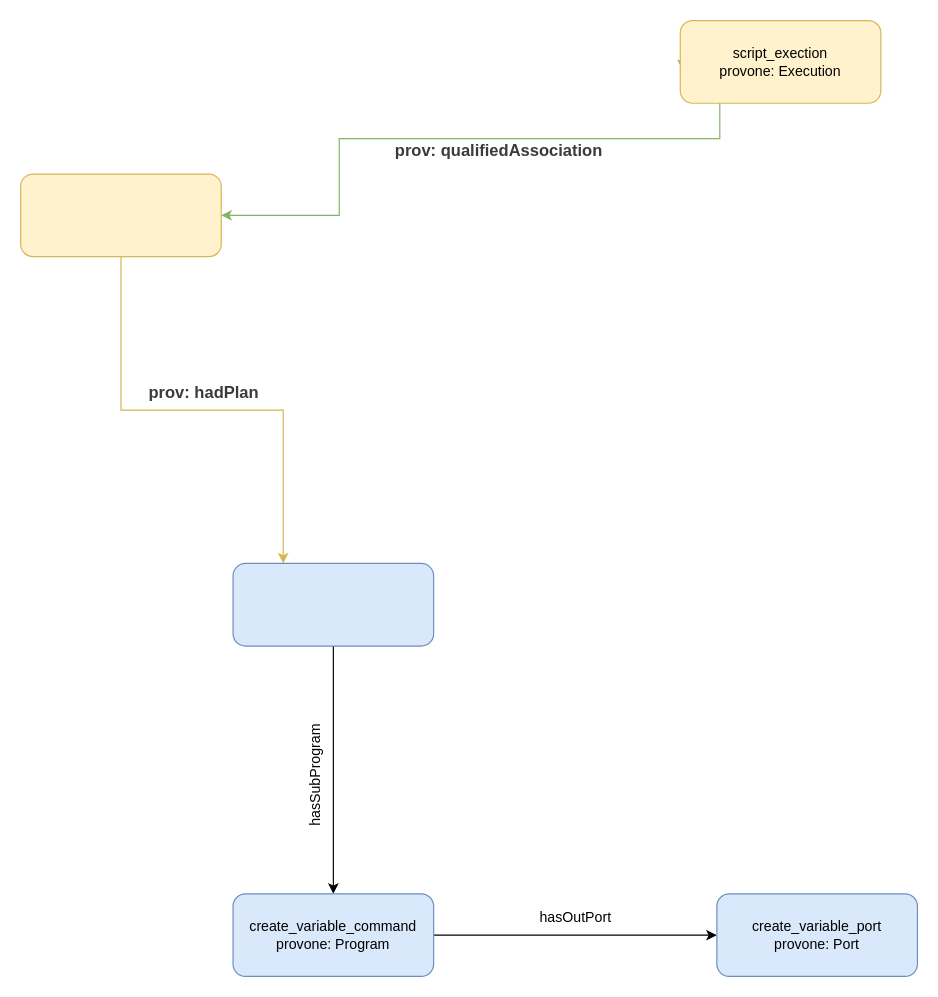
This 938x997 diagram has some shape labels left out. Each missing label, with the centre of its shape:
"associated_plan provone: Association" goes at point (120, 215).
"create_var.sps_program provone: Program" goes at point (333, 604).
